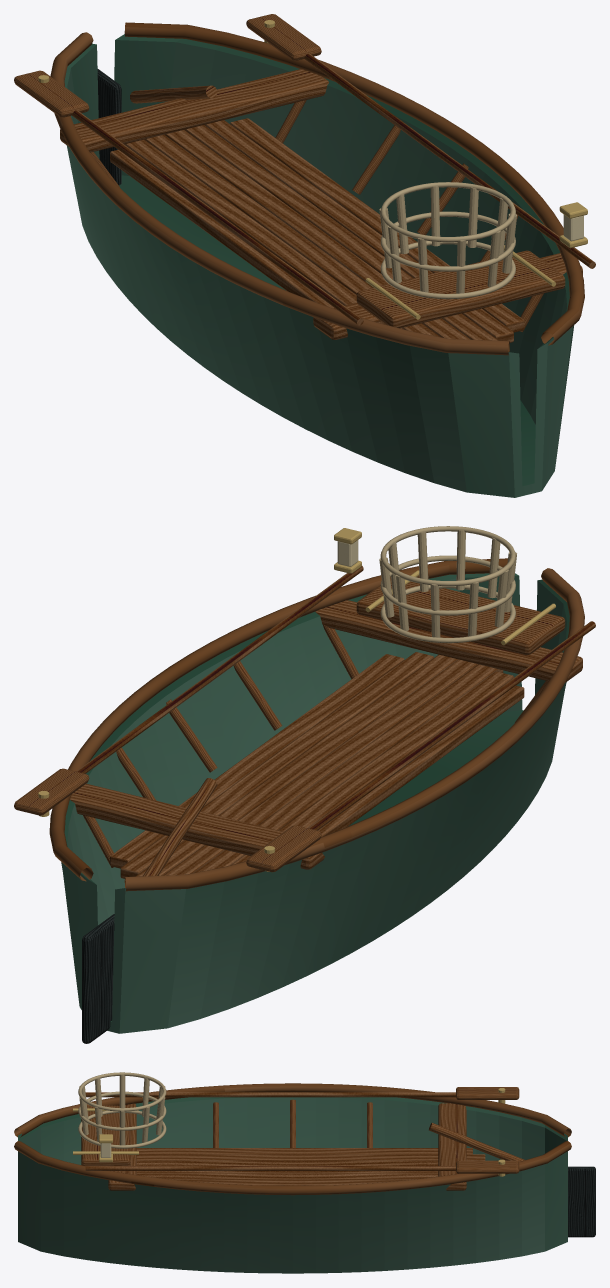
Rendered from SM_MarshSkiff.glb.
The picture shows the model from 3 angles, top to bottom: view 1: azimuth 30°, elevation 25°; view 2: azimuth 150°, elevation 25°; view 3: azimuth 270°, elevation 25°; orthographic projection. The views are drawn at different scales.
Visible parts, largest first — view 1: SM_MarshSkiff; view 2: SM_MarshSkiff; view 3: SM_MarshSkiff.
Part boxes in pixels (x1,y1,x2,y2): SM_MarshSkiff: (14, 14, 595, 497); SM_MarshSkiff: (14, 526, 595, 1043); SM_MarshSkiff: (14, 1072, 595, 1273).
Size of the model in its own units: 1.79 by 1.15 by 4.13.
Materials: 6 (4 with a texture image).
